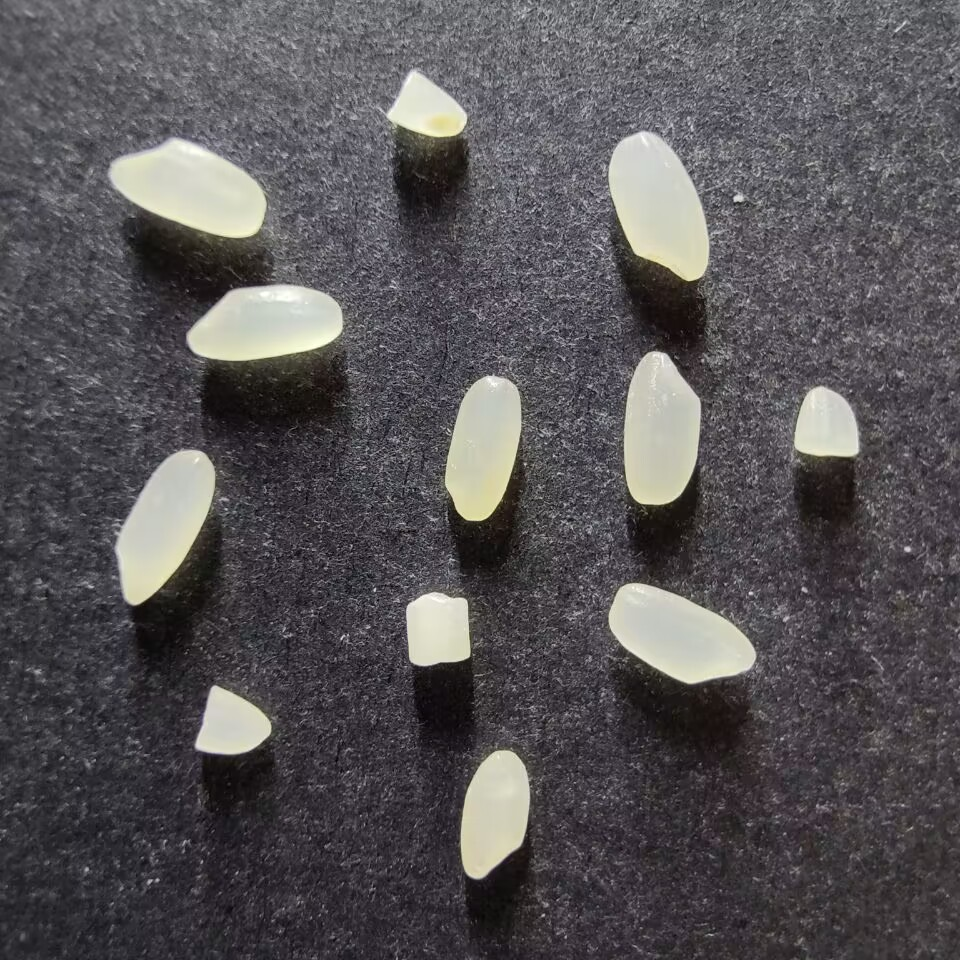broken: (385, 69, 466, 137), (193, 684, 270, 754), (404, 591, 471, 666), (792, 385, 859, 457)
rice: (108, 137, 264, 239), (115, 449, 215, 605), (607, 130, 709, 281), (607, 582, 756, 684), (622, 350, 702, 505), (185, 283, 343, 361), (443, 375, 521, 521), (459, 749, 529, 880)
